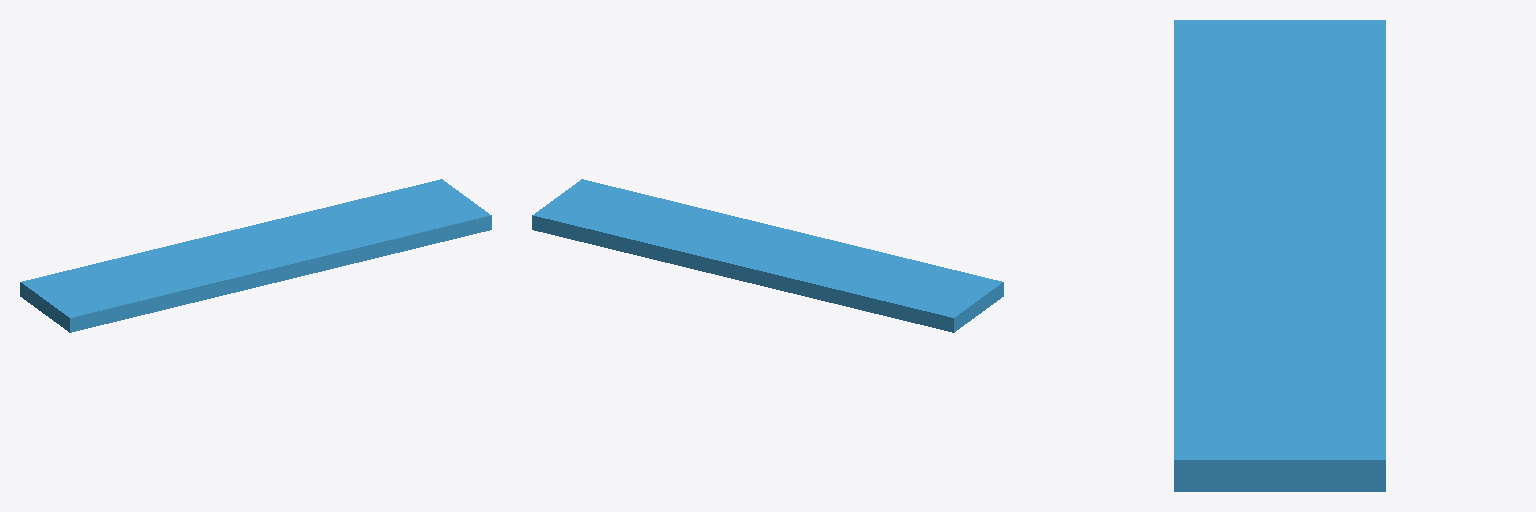
robot.urdf — cylinder_71:
    
    <robot name="cylinder_71">
        <link name="cylinder_71">    
            <fem>
                <origin rpy="0.0 0.0 0.0" xyz="0 0 0" />
                <density value="100" />
                <youngs value="7213"/>
                <poissons value="0.3" />
                <damping value="0.0" />
                <attachDistance value="0.01" />
                <tetmesh filename="[local-path]/sim_data/Custom/Custom_mesh/multi_cylinder_5kPa/cylinder_71.tet" />
                <scale value="0.5"/>
            </fem>
        </link>

        <link name="fix_frame">
            <visual>
                <origin xyz="0.0 0.0 10.097527265108644"/>
                <geometry>
                    <box size="0.15 0.030516732769876116 0.005"/>
                </geometry>
            </visual>
            <collision>
                <origin xyz="0.0 0.0 0.09752726510864321"/>
                <geometry>
                    <box size="0.15 0.030516732769876116 0.005"/>
                </geometry>
            </collision>
            <inertial>
                <mass value="500000"/>
                <inertia ixx="0.05" ixy="0.0" ixz="0.0" iyy="0.05" iyz="0.0" izz="0.05"/>
            </inertial>
        </link>
        
        <joint name = "attach" type = "fixed">
            <origin xyz = "0.0 0.0 0.0" rpy = "0 0 0"/>
            <parent link ="cylinder_71"/>
            <child link = "fix_frame"/>
        </joint>  




    </robot>
    

--- What the picture shows (computed from the rendered views, not written in the file) ---
Views: 3 orthographic renders of the robot side by side, from view 1: azimuth 30°, elevation 25°; view 2: azimuth 150°, elevation 25°; view 3: azimuth 270°, elevation 25°.
Model cylinder_71 with 2 links and 1 joints (1 fixed), rooted at cylinder_71, posed every joint at zero.
Visible links, largest first — view 1: fix_frame; view 2: fix_frame; view 3: fix_frame.
Boxes of the visible links, <box> form: fix_frame: <box>20,179,491,332</box>; fix_frame: <box>532,179,1003,332</box>; fix_frame: <box>1174,20,1385,491</box>.
Bounding box of the posed robot: 0.15 × 0.0305 × 0.005 m (x, y, z).
Geometry: primitives only (box / cylinder / sphere), no mesh files.